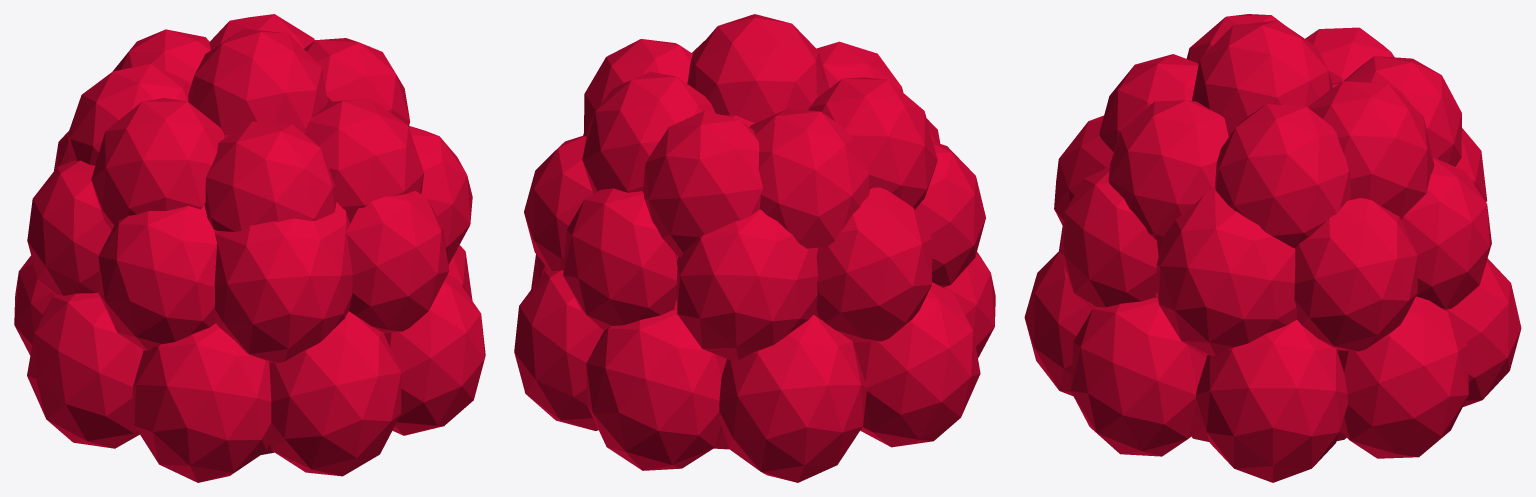
The model's file is Raspberry_01.fbx.
The picture shows the model from 3 angles, left to right: view 1: azimuth 30°, elevation 25°; view 2: azimuth 150°, elevation 25°; view 3: azimuth 270°, elevation 25°; orthographic projection.
Visible parts, largest first — view 1: Raspberry_01; view 2: Raspberry_01; view 3: Raspberry_01.
Part boxes in pixels (<box>): Raspberry_01: <box>14,14,485,482</box>; Raspberry_01: <box>514,14,995,482</box>; Raspberry_01: <box>1024,14,1521,482</box>.
Bounding box in the file's own units: 4.58 × 3.93 × 4.57.
